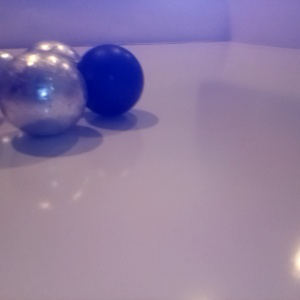alive_ball: (1, 51, 87, 137), (23, 41, 84, 104), (1, 48, 29, 122)
dead_ball: (76, 42, 145, 117)
